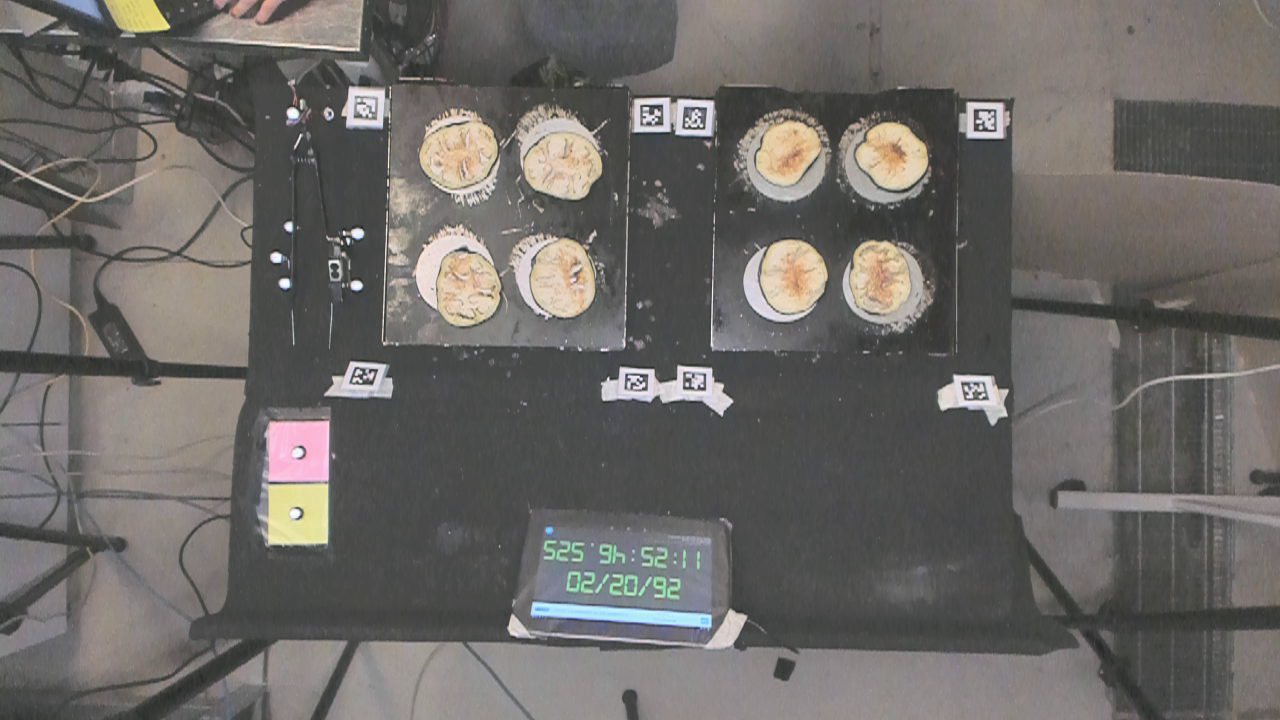eggplant: (520, 132, 605, 204), (416, 121, 502, 192), (855, 116, 933, 194), (533, 234, 598, 322), (761, 236, 831, 316), (433, 250, 503, 329), (751, 112, 824, 185), (844, 241, 911, 318)
marker: (266, 421, 328, 481)
